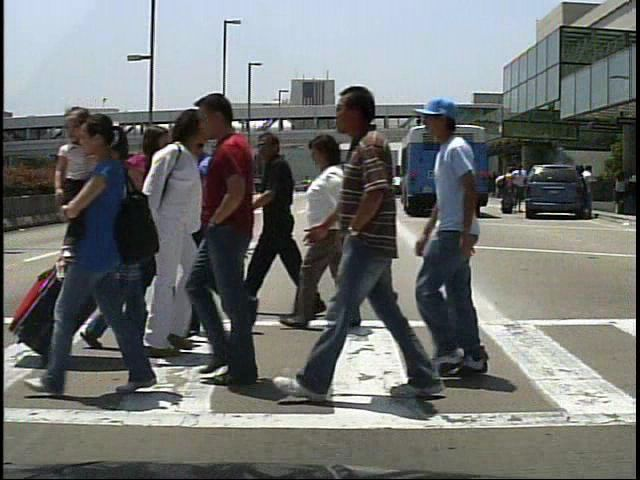person: (314, 84, 451, 424), (108, 107, 220, 364), (188, 92, 284, 387), (423, 103, 511, 381), (158, 123, 251, 345), (286, 135, 370, 333), (246, 123, 319, 323), (122, 117, 178, 362), (109, 192, 151, 328), (497, 166, 517, 219), (582, 166, 602, 218), (512, 165, 529, 215)
